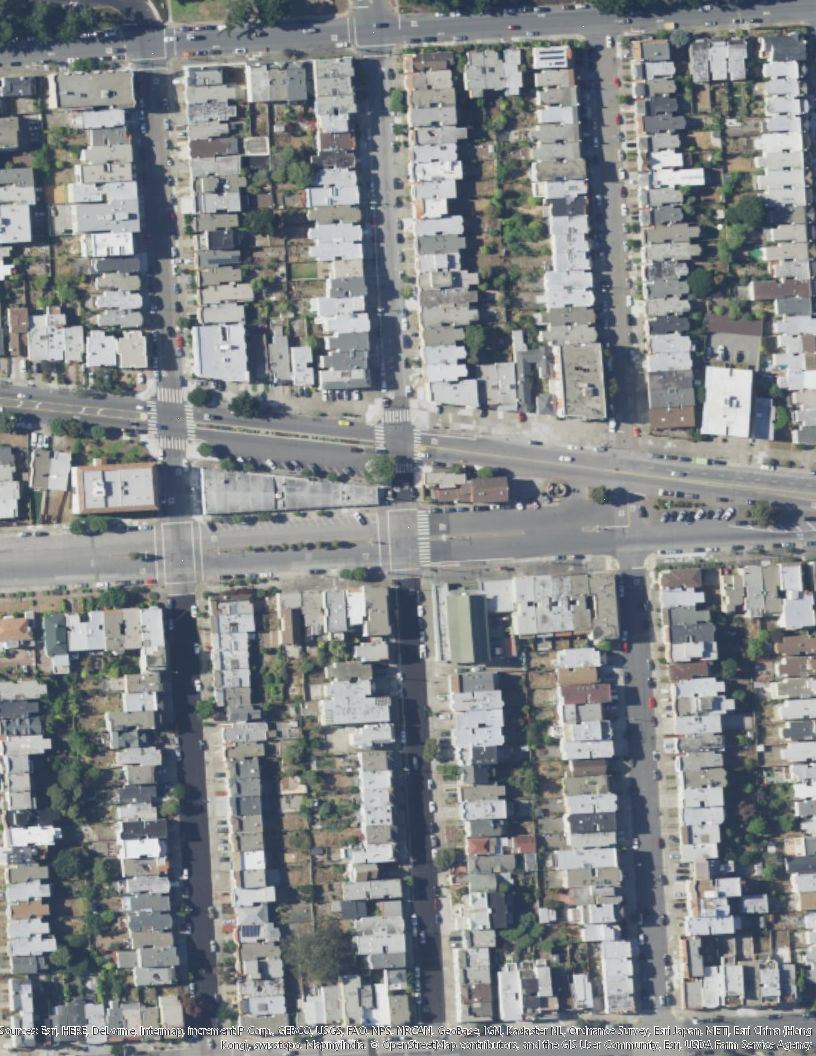zebracross: (413, 510, 431, 566), (181, 405, 199, 441), (158, 385, 187, 406), (147, 399, 160, 437), (383, 410, 413, 425), (161, 437, 188, 453), (374, 423, 388, 452), (412, 428, 424, 459)
